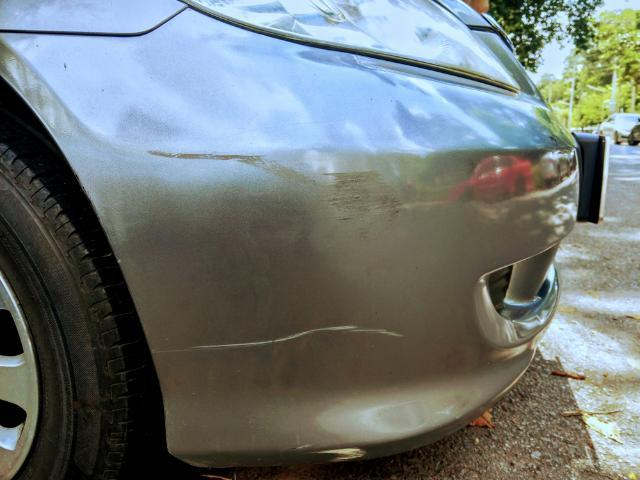scratch: (144, 148, 406, 237), (164, 321, 413, 353)
